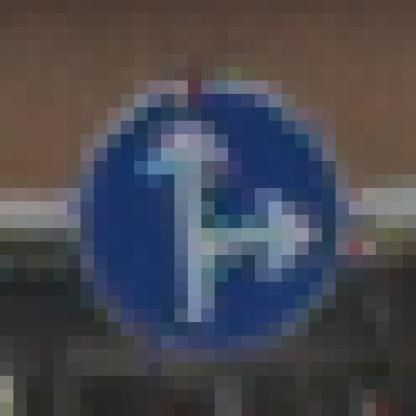Straight or Right: (81, 68, 350, 350)
